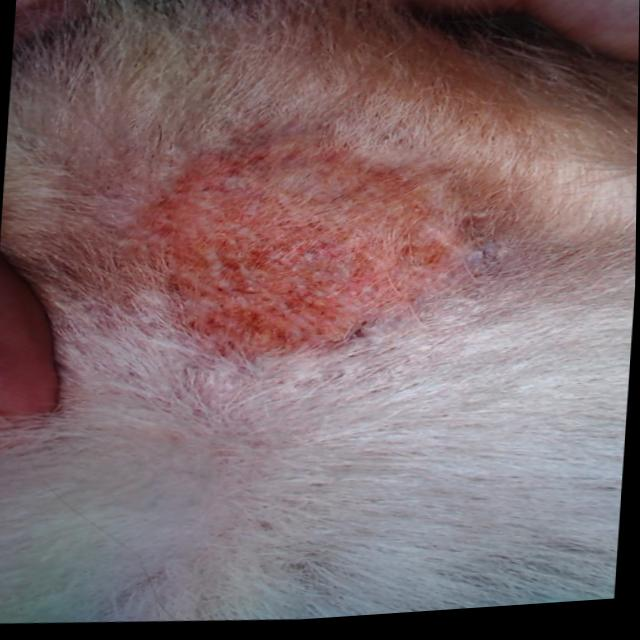ringworm: (92, 121, 491, 374)
